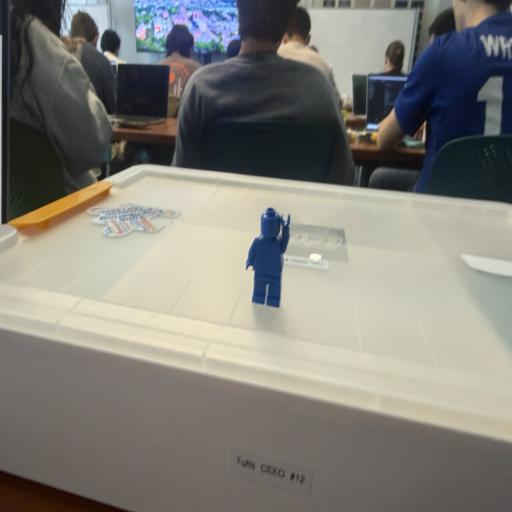Minifig: (246, 208, 290, 307)
